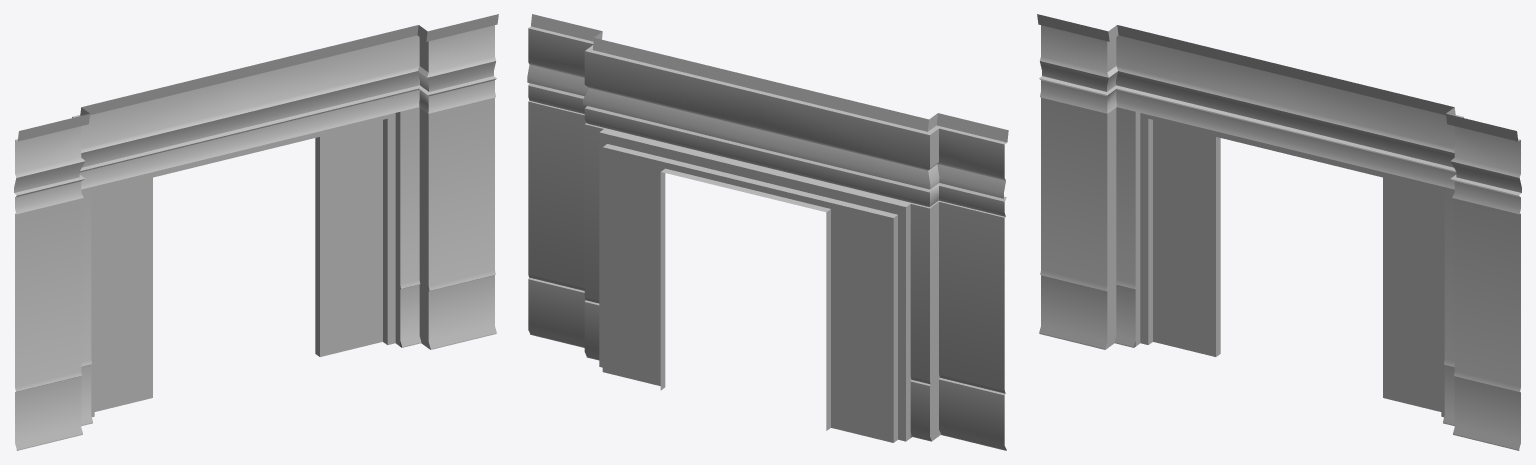
Rendered from Wall_DoorWay.FBX.
The picture shows the model from 3 angles, left to right: view 1: azimuth 30°, elevation 25°; view 2: azimuth 150°, elevation 25°; view 3: azimuth 330°, elevation 25°; orthographic projection.
Parts seen in each view (by area): view 1: Wall_DoorWay; view 2: Wall_DoorWay; view 3: Wall_DoorWay.
Part boxes in pixels (x1,y1,x2,y2): Wall_DoorWay: [14, 14, 498, 450]; Wall_DoorWay: [527, 14, 1008, 450]; Wall_DoorWay: [1037, 14, 1521, 450].
Bounding box in the file's own units: 6 × 3.84 × 0.5855.
